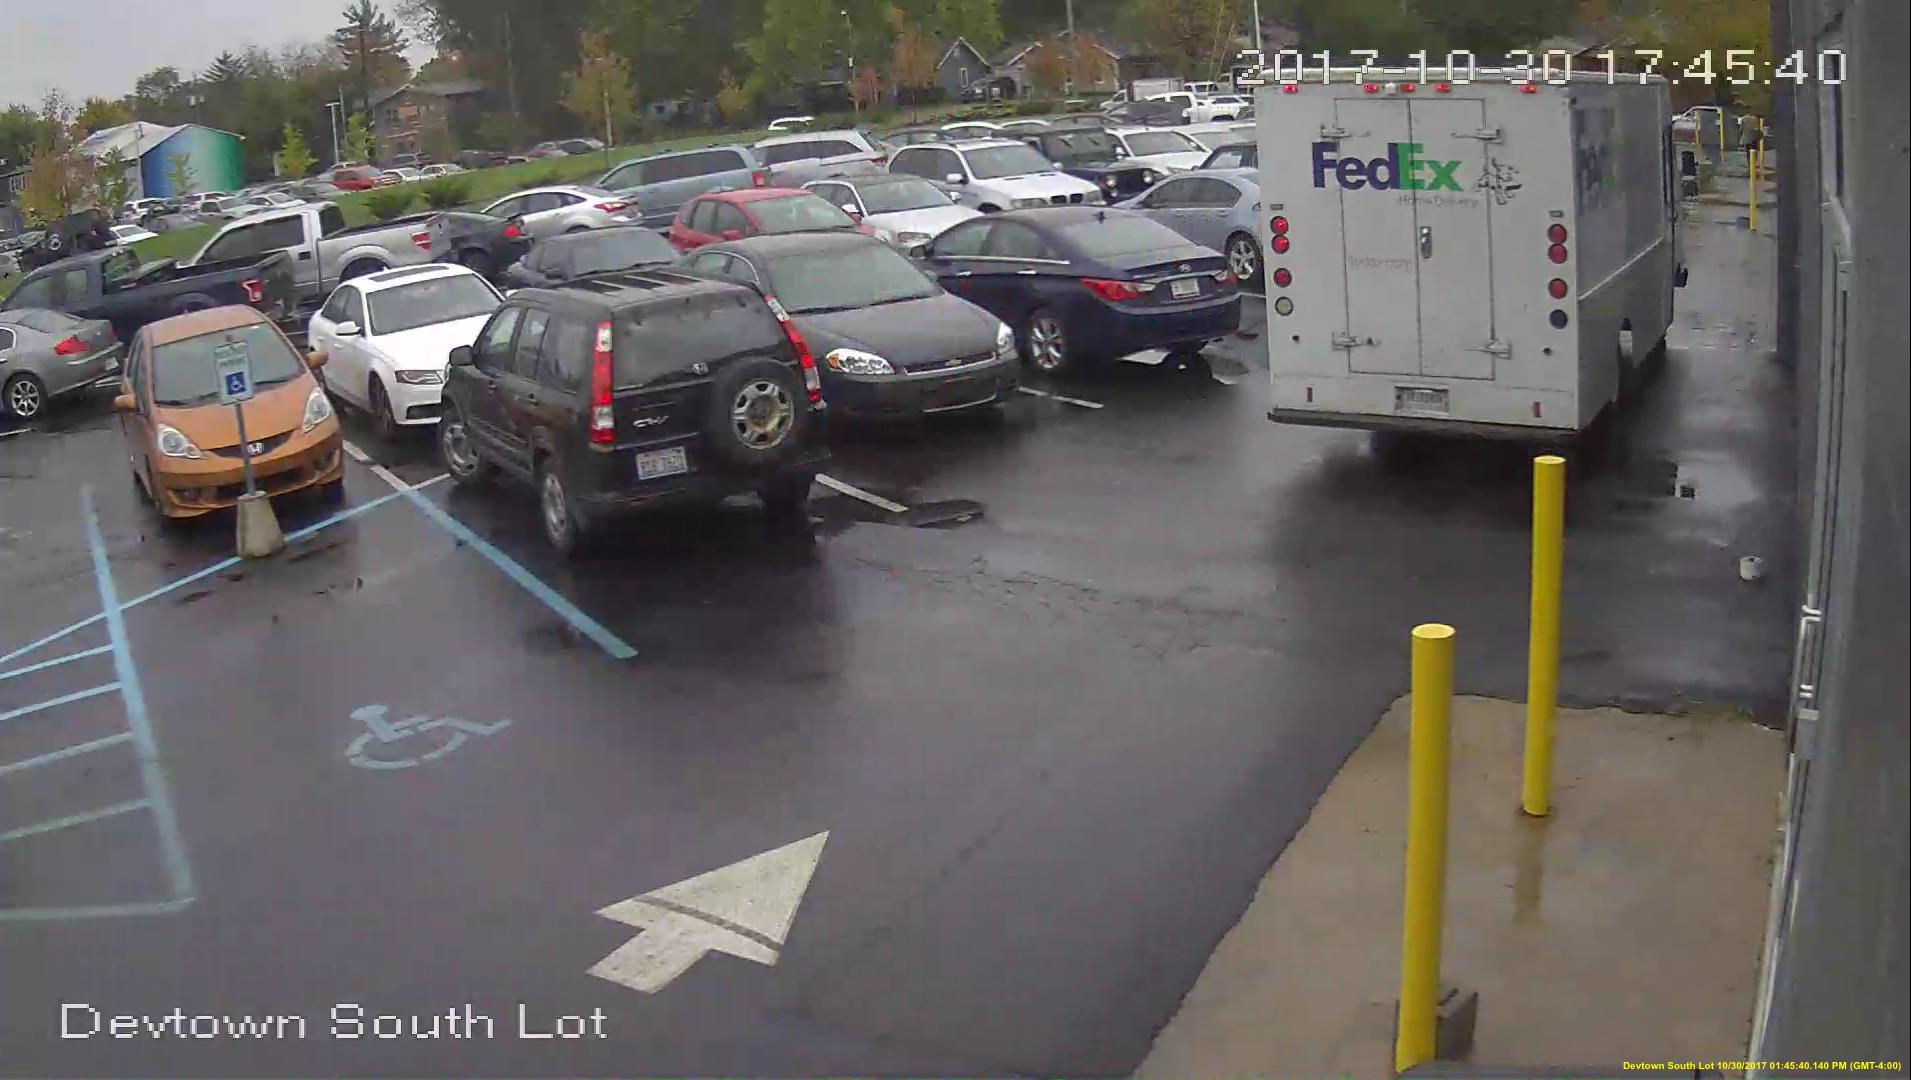fedex_truck: (1267, 73, 1677, 438)
